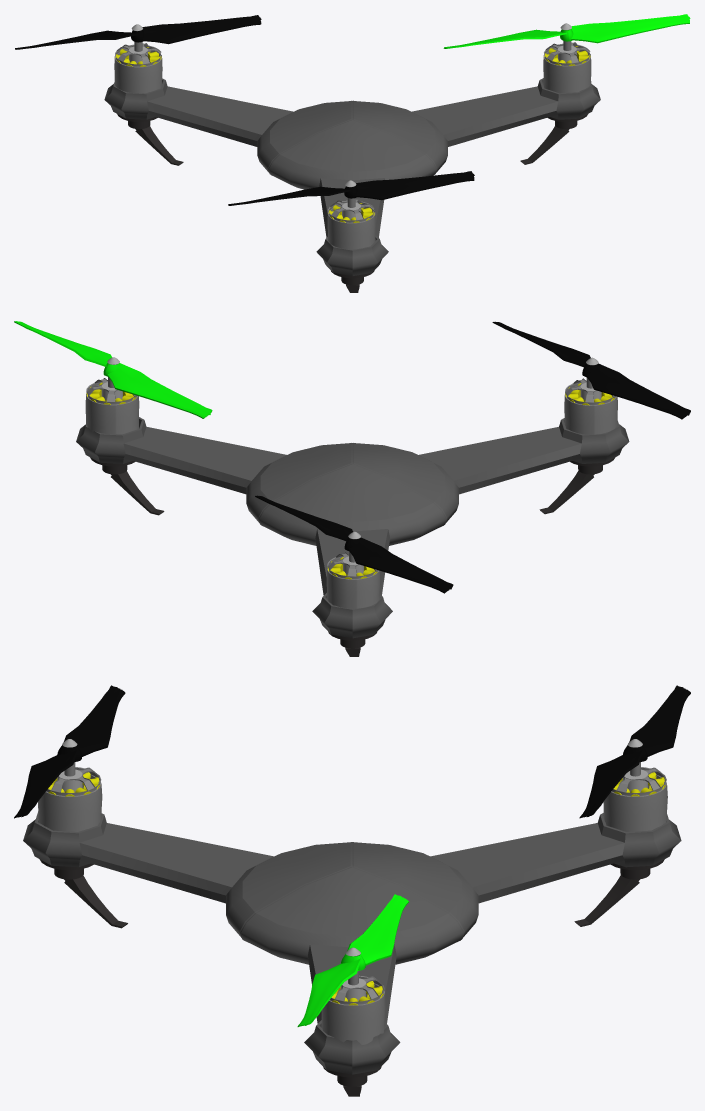
File: uav1.fbx
The picture shows the model from 3 angles, top to bottom: view 1: azimuth 30°, elevation 25°; view 2: azimuth 150°, elevation 25°; view 3: azimuth 270°, elevation 25°; orthographic projection. The views are drawn at different scales.
Parts seen in each view (by area): view 1: pCylinder15, polySurface39, polySurface42, polySurface43, pCylinder38, pCylinder41, pCylinder42; view 2: pCylinder15, polySurface42, polySurface39, polySurface43, pCylinder38, pCylinder41, pCylinder42; view 3: pCylinder15, polySurface43, polySurface39, polySurface42, pCylinder38, pCylinder41, pCylinder42.
Boxes of the visible parts, left/top/right/bottom form: pCylinder15: left=104, top=78, right=600, bottom=292; polySurface39: left=443, top=14, right=690, bottom=48; polySurface42: left=228, top=171, right=474, bottom=205; polySurface43: left=15, top=15, right=261, bottom=49; pCylinder38: left=543, top=41, right=591, bottom=93; pCylinder41: left=327, top=198, right=375, bottom=249; pCylinder42: left=114, top=41, right=162, bottom=93; pCylinder15: left=76, top=417, right=629, bottom=656; polySurface42: left=492, top=321, right=690, bottom=419; polySurface39: left=14, top=321, right=212, bottom=418; polySurface43: left=255, top=495, right=453, bottom=593; pCylinder38: left=85, top=377, right=139, bottom=434; pCylinder41: left=564, top=377, right=617, bottom=434; pCylinder42: left=326, top=551, right=380, bottom=608; pCylinder15: left=23, top=811, right=681, bottom=1096; polySurface43: left=579, top=685, right=690, bottom=818; polySurface39: left=297, top=894, right=408, bottom=1026; polySurface42: left=14, top=685, right=125, bottom=818; pCylinder38: left=321, top=971, right=385, bottom=1045; pCylinder41: left=38, top=762, right=102, bottom=831; pCylinder42: left=603, top=762, right=667, bottom=831.
Size of the model in its own units: 27.28 by 6.34 by 22.62.
